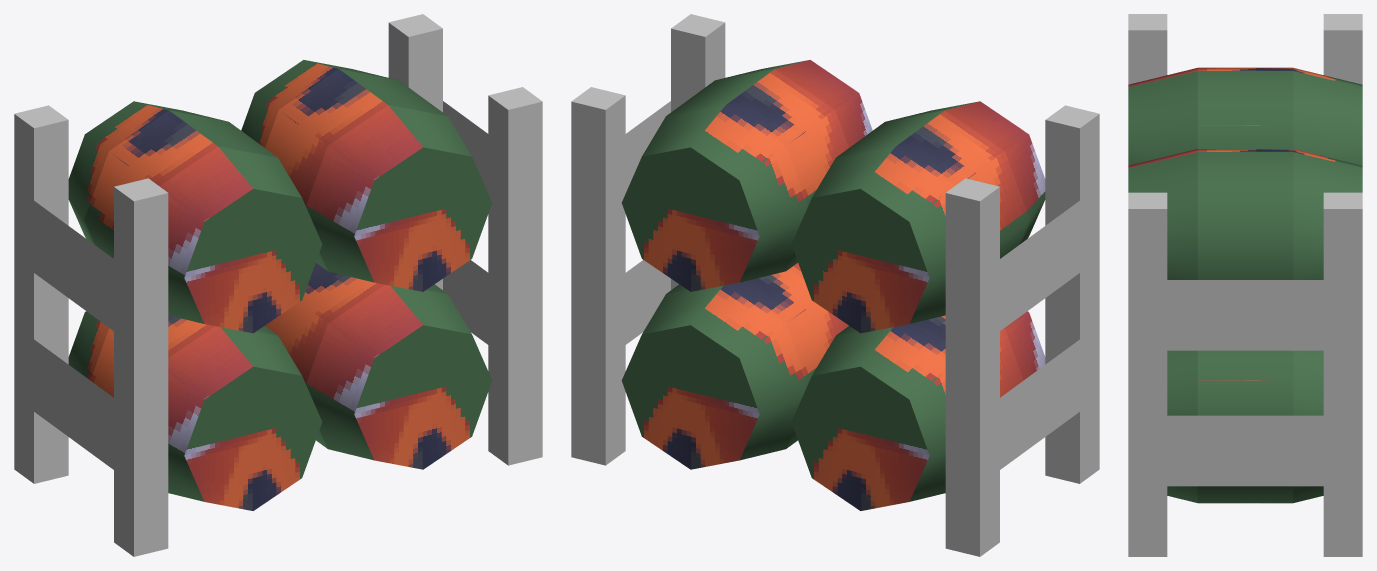
File: barrels.obj
The picture shows the model from 3 angles, left to right: view 1: azimuth 30°, elevation 25°; view 2: azimuth 150°, elevation 25°; view 3: azimuth 270°, elevation 25°; orthographic projection. The views are drawn at different scales.
Visible parts, largest first — view 1: barrels; view 2: barrels; view 3: barrels.
Boxes of the visible parts, left/top/right/bottom form: barrels: left=14, top=14, right=542, bottom=556; barrels: left=571, top=14, right=1099, bottom=556; barrels: left=1128, top=14, right=1362, bottom=556.
Size of the model in its own units: 0.592 by 0.492 by 0.3.
